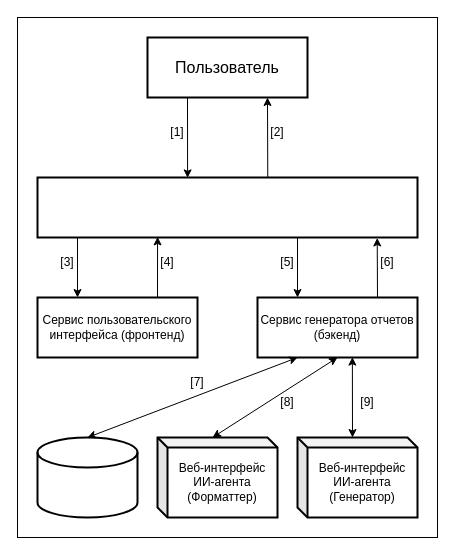
This 455x555 diagram has some shape labels left out. The shapes that lost their labels are listed below. From the top down, each one's centre as x and y in pixels, then its label:
At (x=227, y=207): "Веб-сервер Caddy".
At (x=87, y=477): "База данных PostgreSQL".
